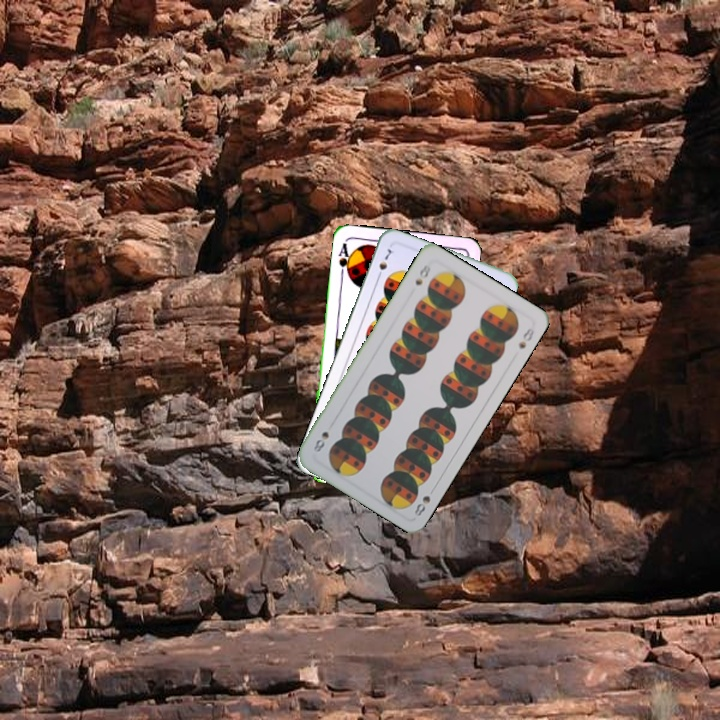S7: (373, 244, 397, 282)
S8: (410, 482, 438, 519), (411, 260, 433, 288)
SA: (334, 239, 355, 279)
